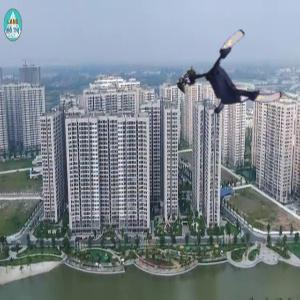drone: (193, 41, 280, 128)
